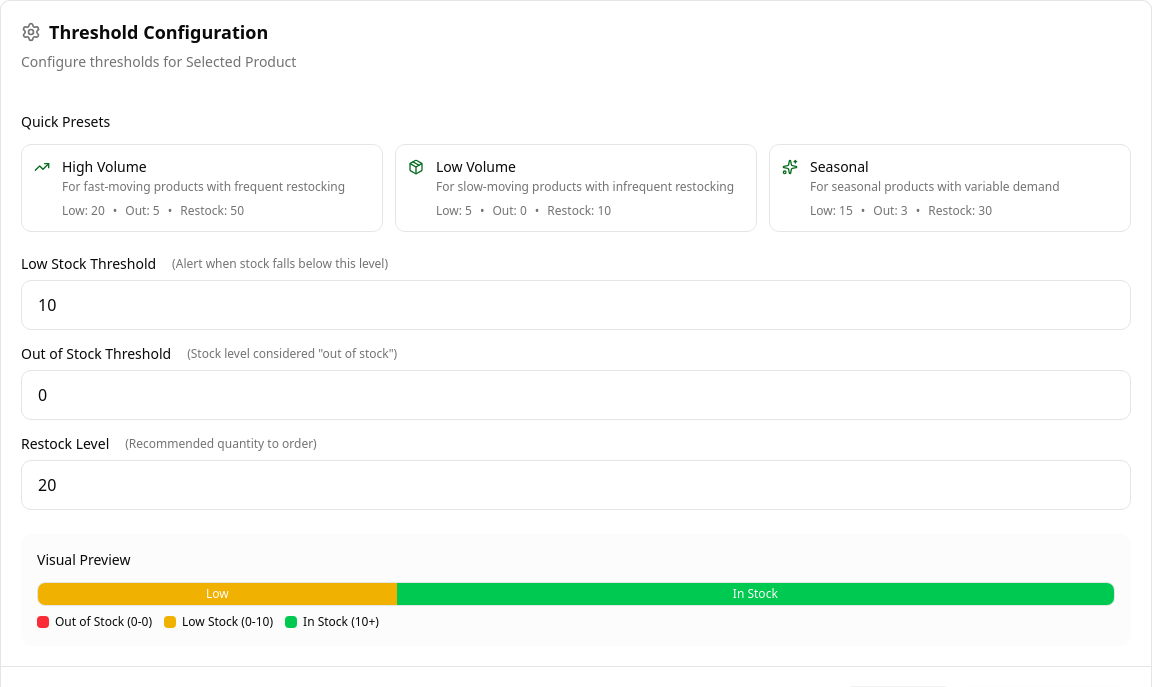
ThresholdSettings Component › Preset Templates › should apply High Volume preset
The width and height of the screenshot is (1152, 687).
Click the button "High Volume" at (202, 188), box [21,144,383,232]
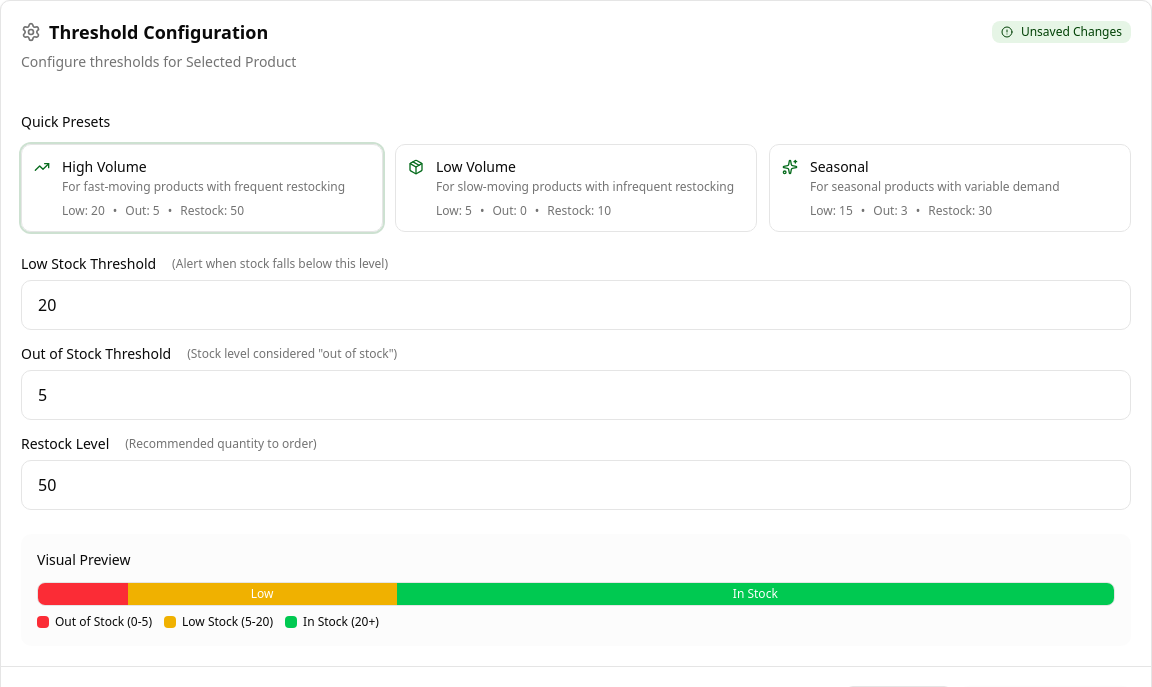
Expected: the number field labelled "Low Stock Threshold" holds "20", [21,280,1131,330]
Expected: the number field labelled "Out of Stock Threshold" holds "5", [21,370,1131,420]
Expected: the number field labelled "Restock Level (Recommended quantity to order)" holds "50", [21,460,1131,510]
